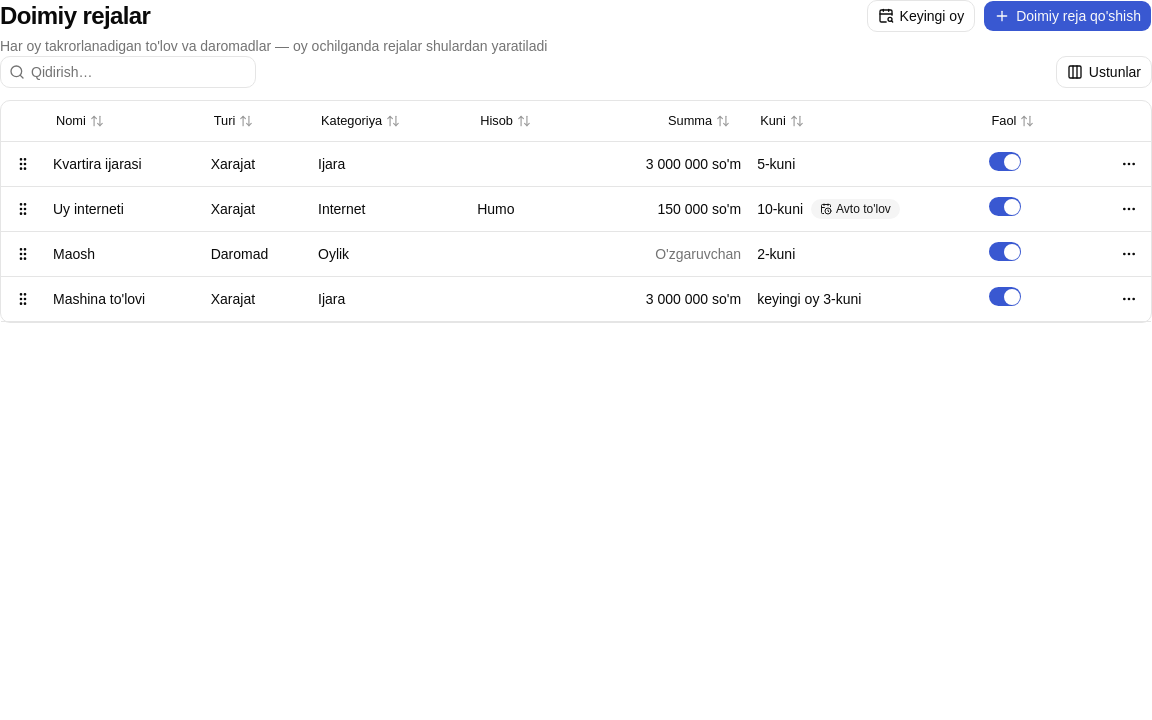
Test: RecurringRulesPage (E22-T04) › keyingi oy preview — yangi va mavjud rejalar
Click the button "Keyingi oy" at [921, 16], box [867, 0, 975, 32]
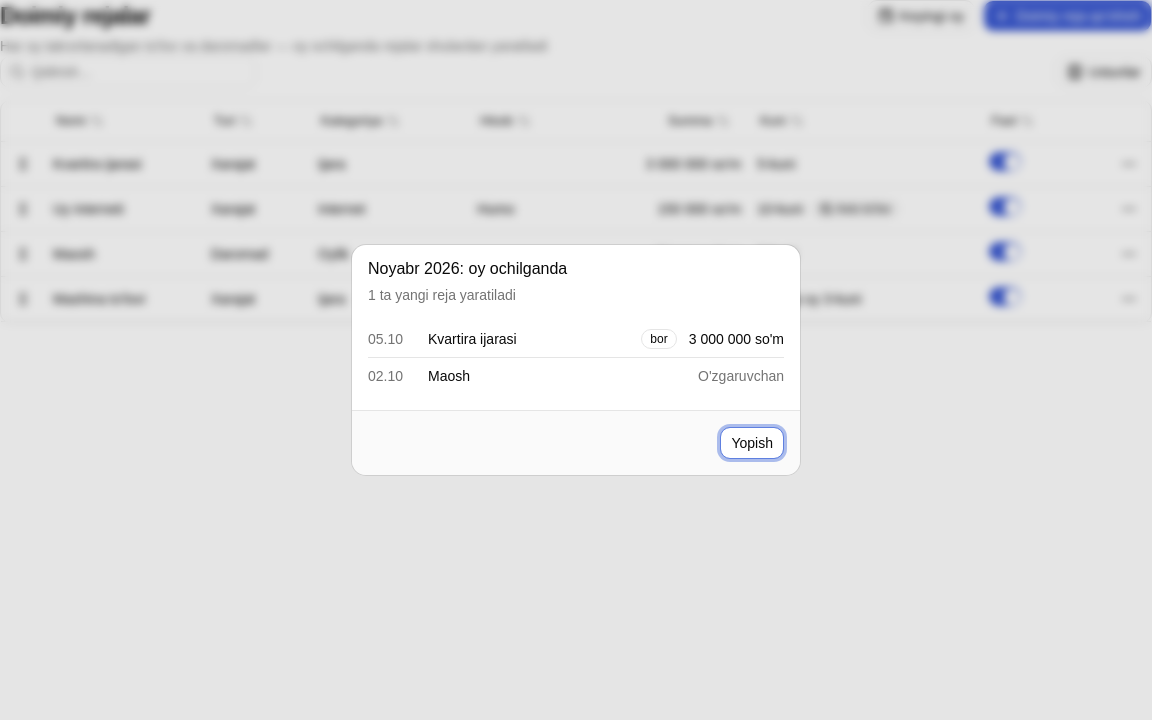
Expected: the text "1 ta yangi reja yaratiladi" is shown, [368, 287, 516, 303]
Expected: the icon "bor" is shown, [641, 329, 677, 349]
Expected: the text "O'zgaruvchan" is shown, [698, 366, 784, 386]
